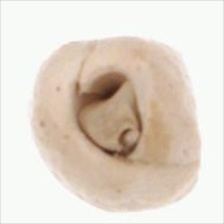L3: (68, 71, 144, 165)
L4: (31, 36, 201, 212)
